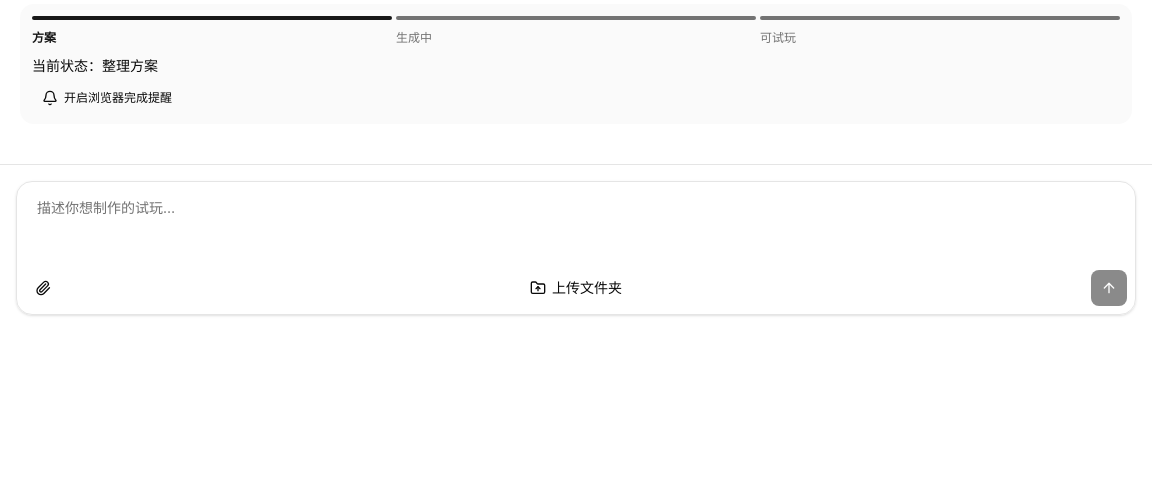
Test: PlayableWorkspace › shows a video analysis that has not finished as pending rather than failed
In the text box named "试玩需求": (576,230) [25,190,1127,270], type "分析视频"
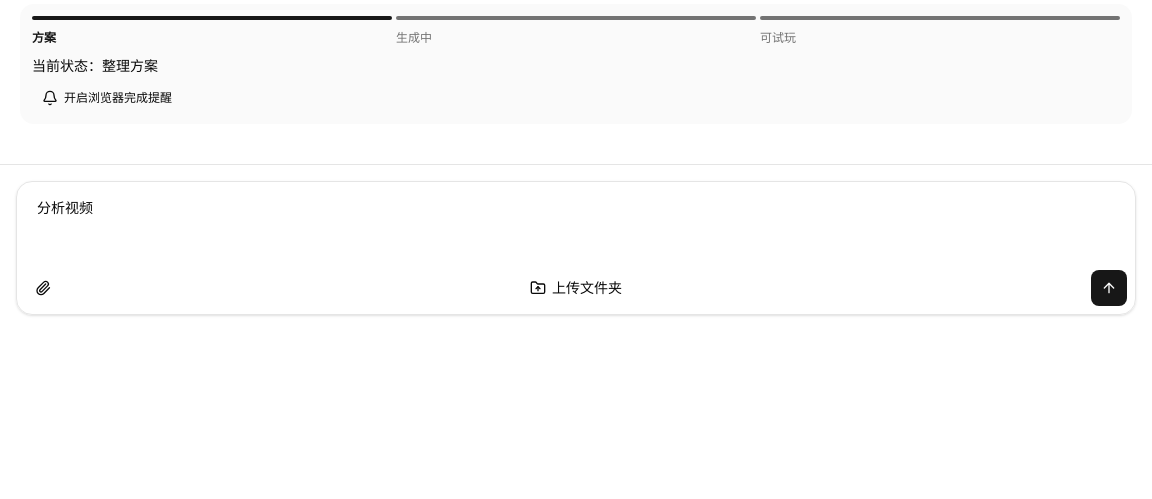
Click the button named "发送需求": (1109,288) [1091,270,1127,306]
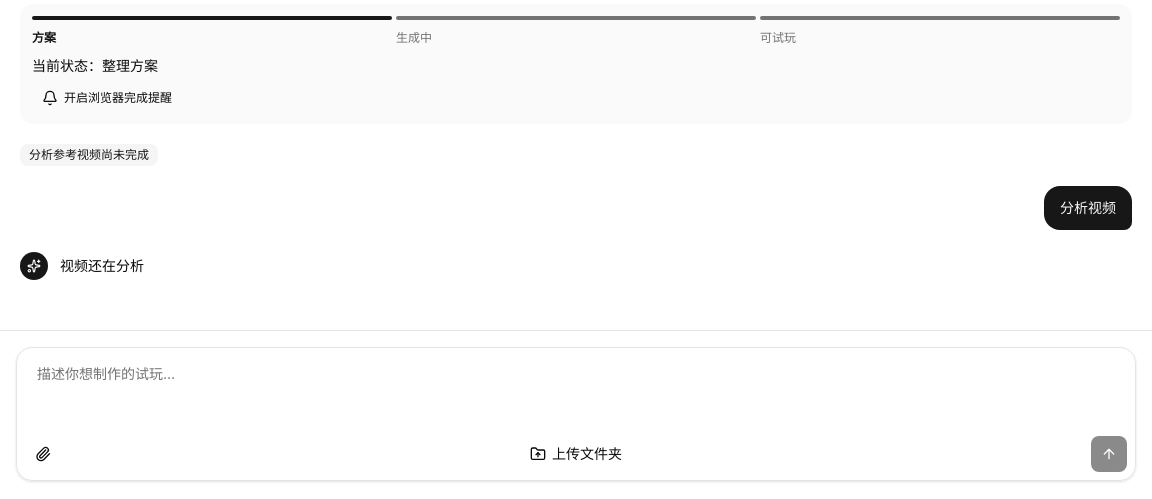
Expected: the element named "本轮 Agent 工具" does not show "失败", [20,144,158,166]
Result: the element named "本轮 Agent 工具" reads "分析参考视频尚未完成" at [20,144,158,166]
